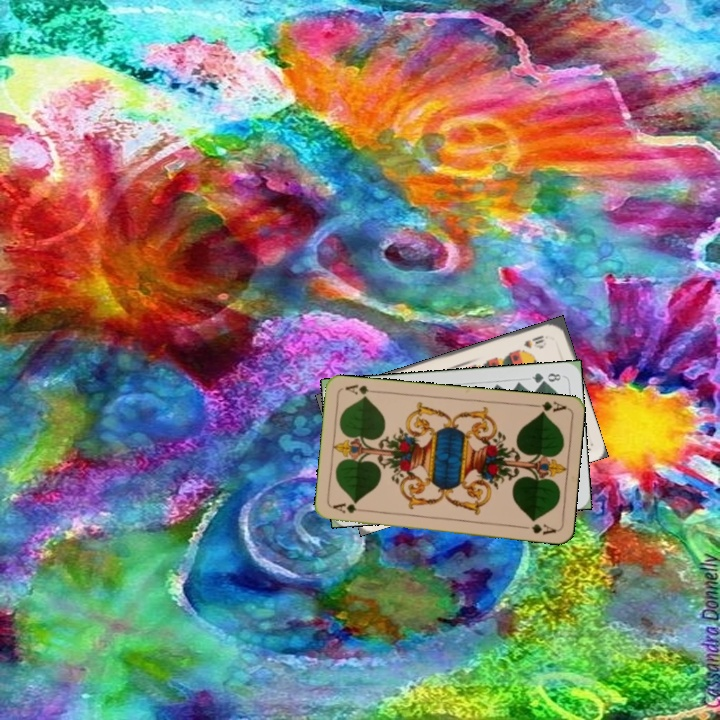G8: (528, 369, 565, 386)
GA: (528, 397, 568, 417), (329, 500, 370, 516)
S10: (520, 331, 547, 350)
